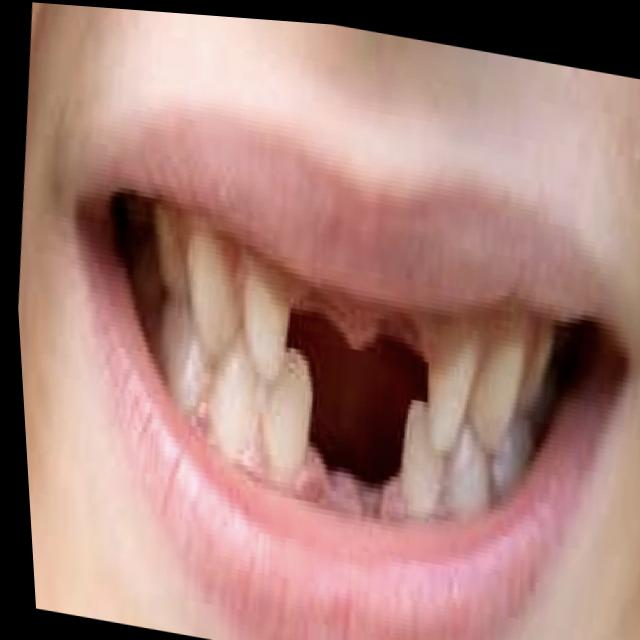hypodontia: (280, 266, 483, 426), (297, 372, 422, 518)
